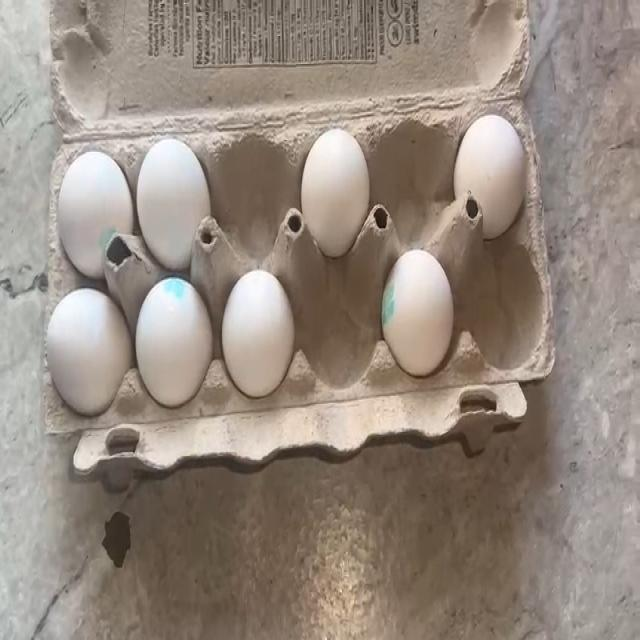Egg: (295, 136, 372, 235), (450, 128, 530, 222), (225, 273, 292, 384), (388, 260, 453, 370), (138, 152, 208, 246), (142, 283, 207, 384), (54, 298, 118, 398), (61, 153, 110, 251)
